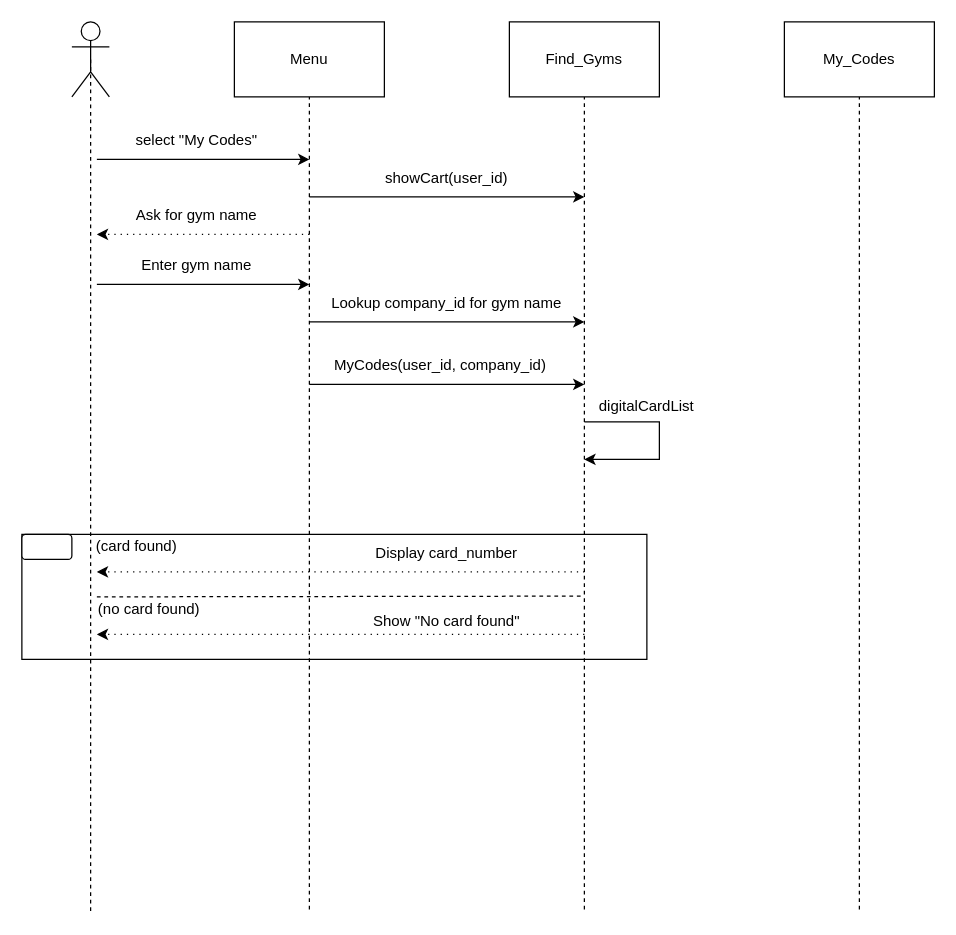
Some shapes in this 956 by 935 pixel diagram are drawn without their labels. The centre of each missing label's shape, as x and y in pixels:
alt: the point at 46,546
User: the point at 90,59
